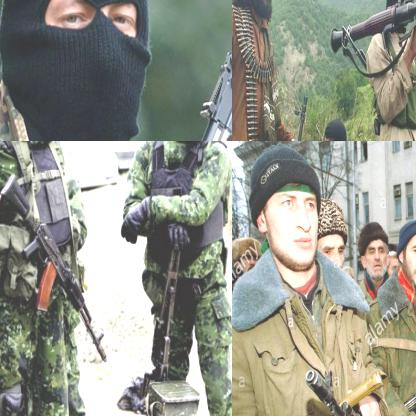rifle: (1, 174, 110, 364), (139, 0, 231, 140), (144, 227, 203, 415), (329, 0, 415, 55), (302, 366, 397, 415), (271, 95, 313, 140)
